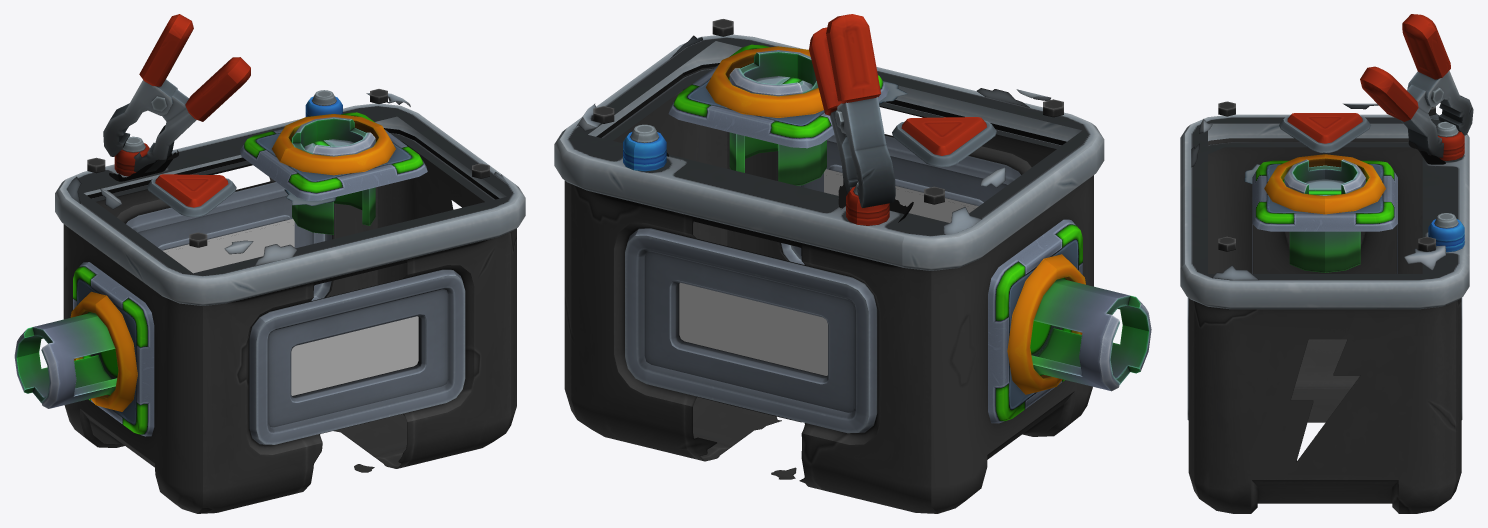
The model's file is obj_containers_battery_pose1.fbx.
The picture shows the model from 3 angles, left to right: view 1: azimuth 30°, elevation 25°; view 2: azimuth 150°, elevation 25°; view 3: azimuth 270°, elevation 25°; orthographic projection. The views are drawn at different scales.
Parts seen in each view (by area): view 1: obj_containers_battery_pose01; view 2: obj_containers_battery_pose01; view 3: obj_containers_battery_pose01.
Part boxes in pixels (x1,y1,x2,y2): obj_containers_battery_pose01: (14, 14, 525, 513); obj_containers_battery_pose01: (554, 14, 1151, 513); obj_containers_battery_pose01: (1180, 14, 1473, 513).
Bounding box in the file's own units: 5.08 × 4.51 × 3.01.
